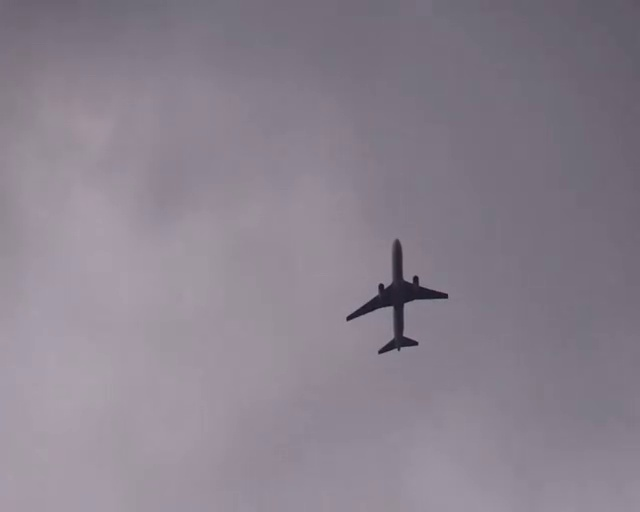AIRPLANE: (346, 237, 450, 355)
